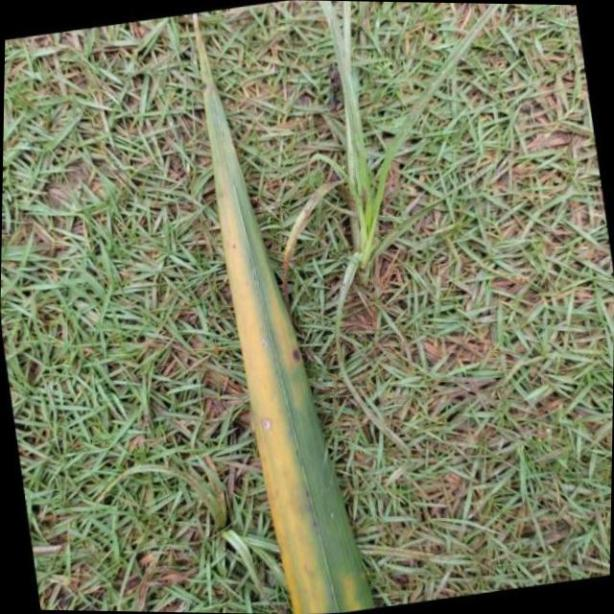Megnesium: (188, 17, 377, 614)
